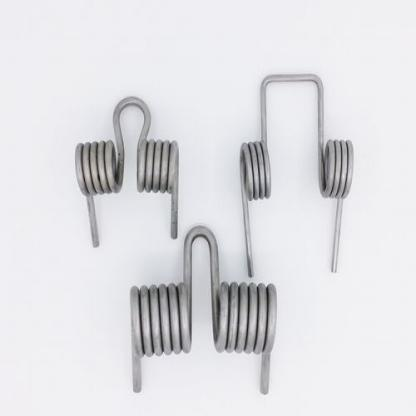FOD: (126, 220, 280, 398), (238, 67, 354, 280), (72, 93, 182, 251)
